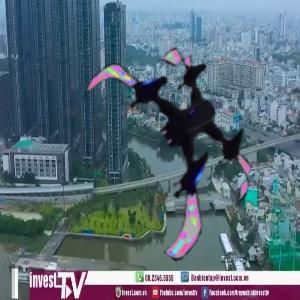drone: (72, 33, 275, 236)
